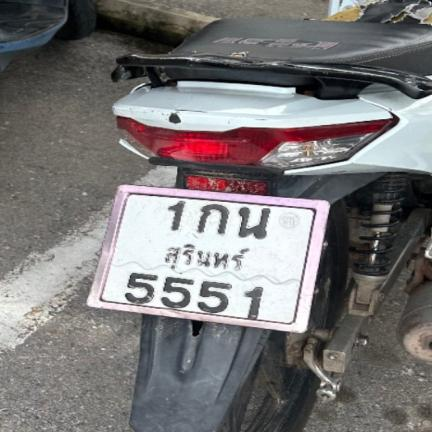1: (234, 283, 272, 320), (162, 197, 187, 233)
5: (193, 278, 237, 316), (119, 270, 163, 307), (157, 274, 198, 312)
A01: (196, 201, 230, 236)
A25: (235, 203, 274, 241)
SRN: (153, 238, 261, 281)
